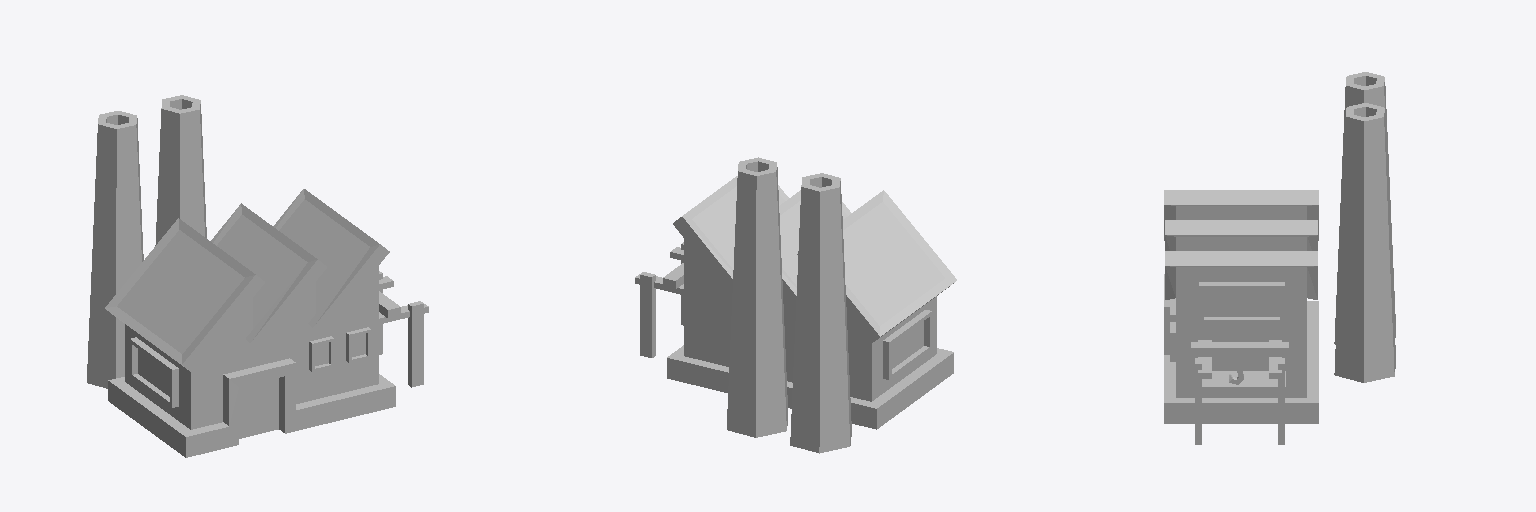
Rendered from factory.obj.
3 views of the same model, side by side, from view 1: azimuth 30°, elevation 25°; view 2: azimuth 150°, elevation 25°; view 3: azimuth 270°, elevation 25° (orthographic).
Parts seen in each view (by area): view 1: factory; view 2: factory; view 3: factory.
Boxes of the visible parts, box(x1,y1,x2,y2) form: factory: box(87, 95, 428, 457); factory: box(635, 157, 956, 453); factory: box(1164, 72, 1395, 444).
Bounding box in the file's own units: 1.82 × 1.69 × 1.39.